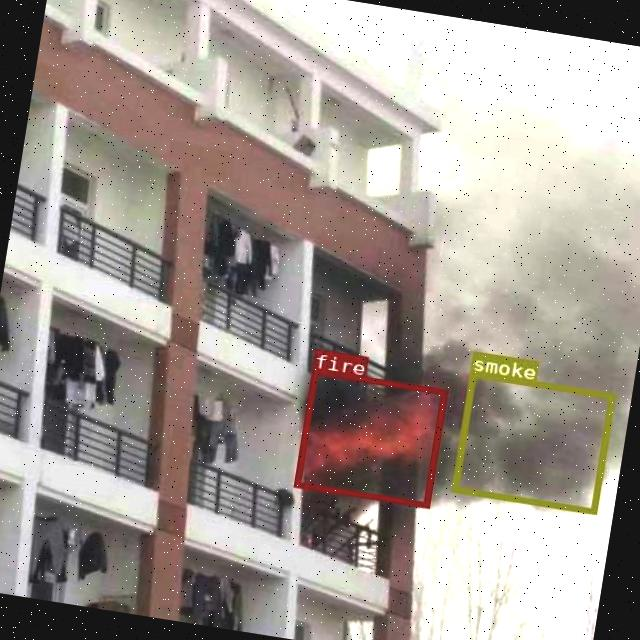fire: (292, 367, 448, 507)
smoke: (451, 370, 614, 513)
